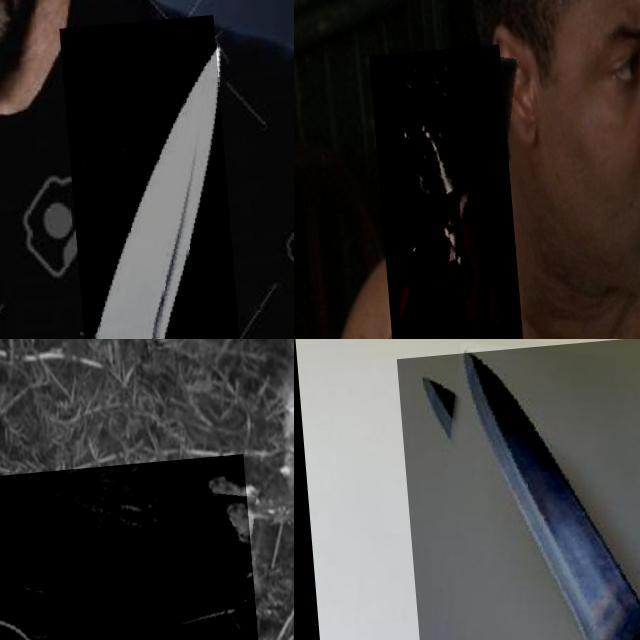-: (396, 339, 640, 640), (56, 24, 236, 339)
gun-knife-thesis - v11 Yolov5 augmented: (0, 462, 254, 640), (364, 49, 516, 339)
